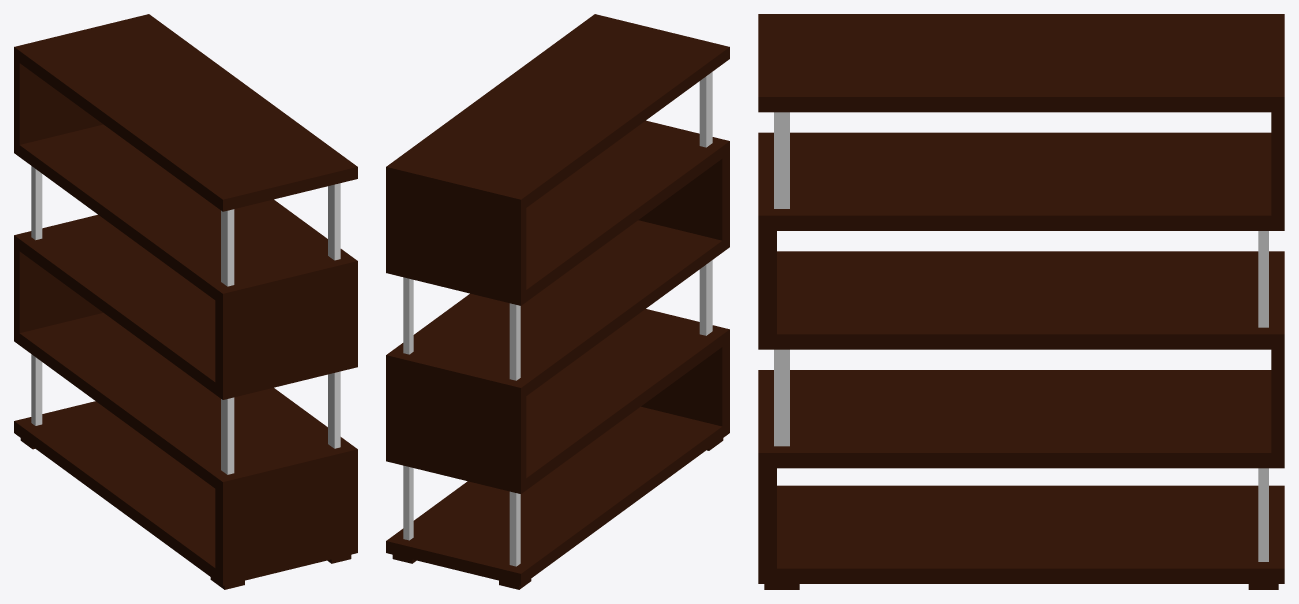
File: Storage.fbx
3 renders of one model, left to right at view 1: azimuth 30°, elevation 25°; view 2: azimuth 150°, elevation 25°; view 3: azimuth 270°, elevation 25°, orthographic. The views are drawn at different scales.
Parts seen in each view (by area): view 1: Shkaff; view 2: Shkaff; view 3: Shkaff.
Part boxes in pixels (left/top/right/bottom): Shkaff: left=14, top=14, right=357, bottom=589; Shkaff: left=386, top=14, right=729, bottom=589; Shkaff: left=758, top=14, right=1284, bottom=589.
Bounding box in the file's own units: 201 × 209 × 75.
